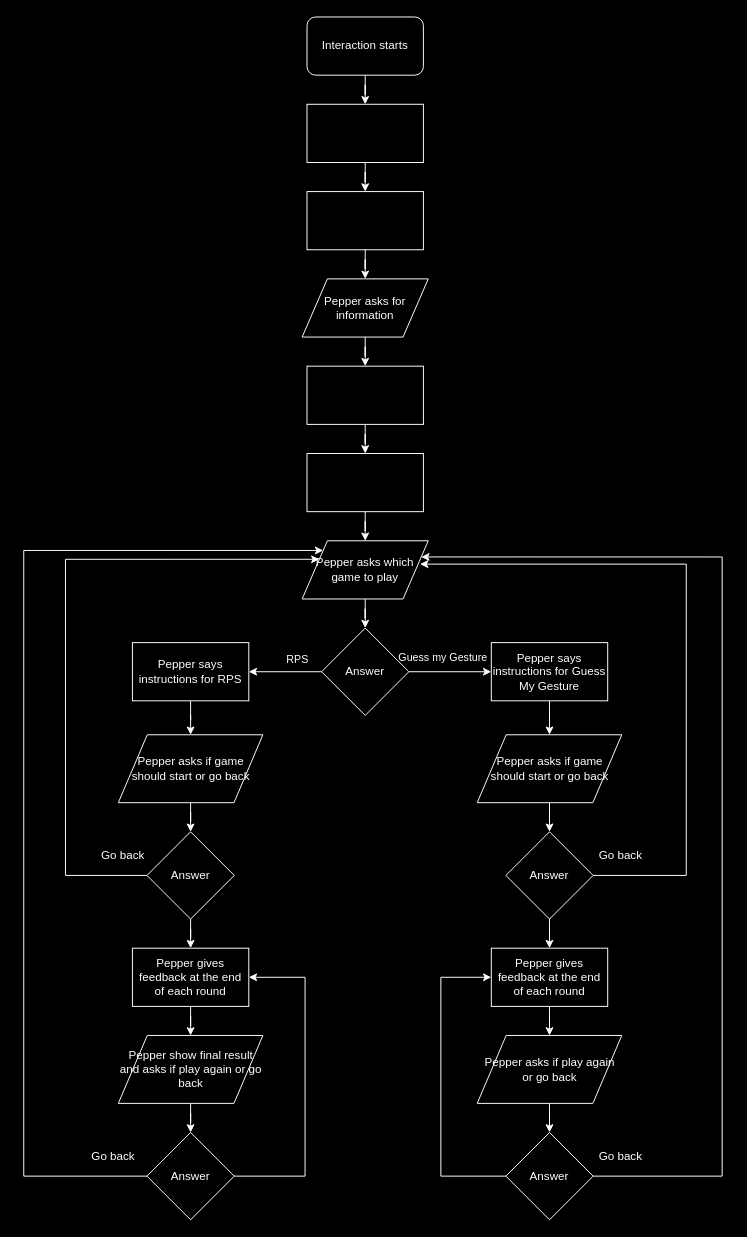
This 747x1237 diagram has some shape labels left out. The shapes that lost their labels are listed below. From the top down, each one's box as (x1, y1, x2, y2) in pixels, then its label:
(306, 103, 423, 162): Pepper presentation
(306, 191, 423, 250): Human presses button or says "Pepper"
(306, 365, 423, 424): Human says name and age or fills form
(306, 453, 423, 512): Pepper confirms information
